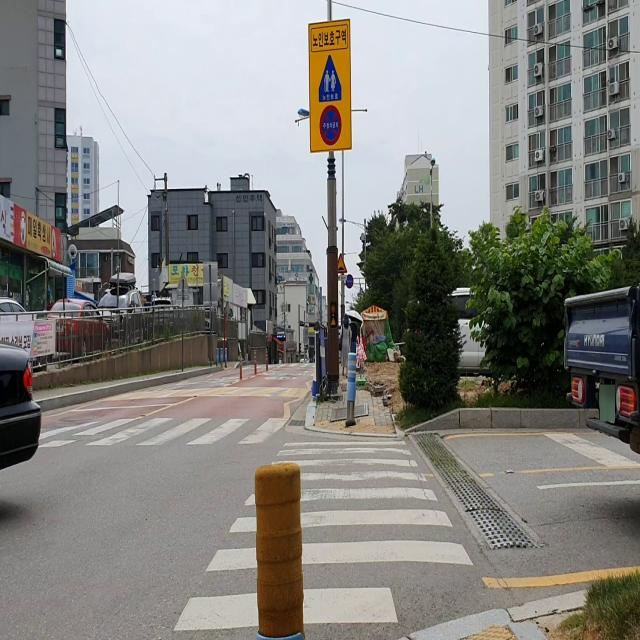횡단보도: (170, 438, 475, 634), (41, 416, 290, 446)
